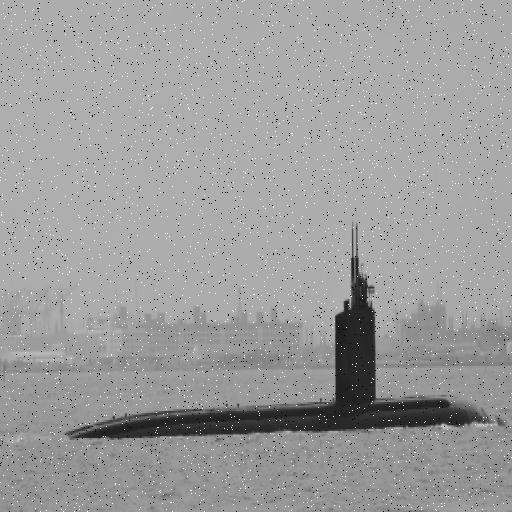submarine: (1, 201, 509, 445)
